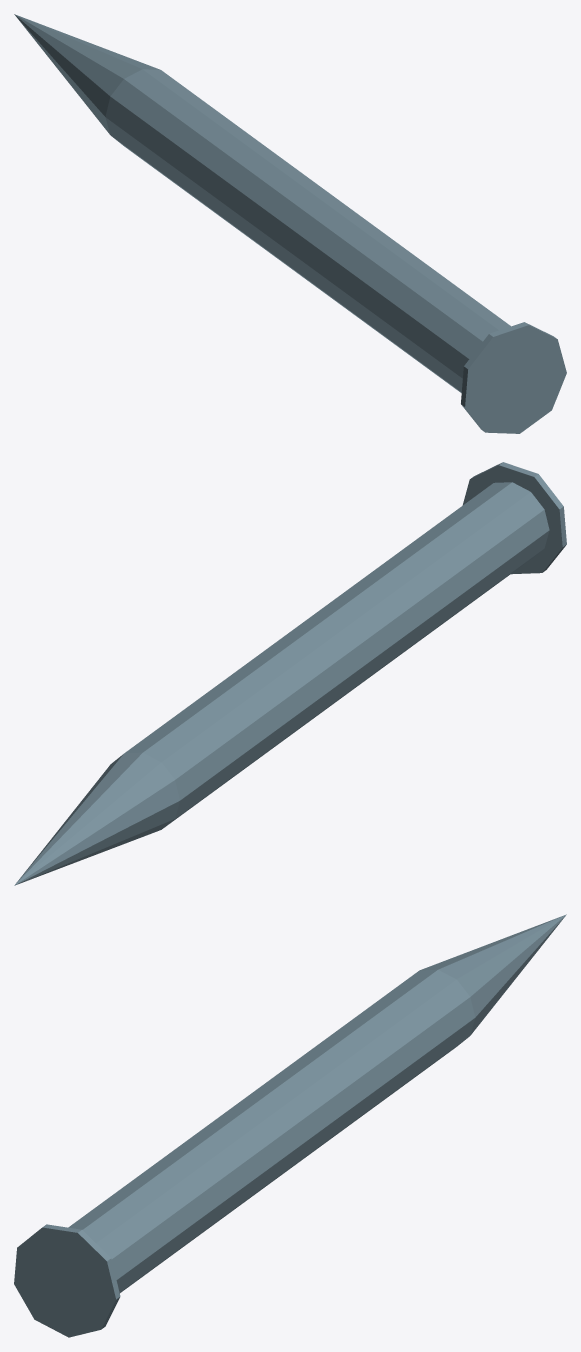
The picture shows the model from 3 angles, top to bottom: view 1: azimuth 30°, elevation 25°; view 2: azimuth 150°, elevation 25°; view 3: azimuth 330°, elevation 25°; orthographic projection.
Visible parts, largest first — view 1: mesh_832330870, group_1505152189; view 2: mesh_832330870, group_1505152189; view 3: mesh_832330870, group_1505152189.
Boxes of the visible parts, x1,y1,x2,y2 form: mesh_832330870: [14, 14, 510, 392]; group_1505152189: [461, 322, 566, 433]; mesh_832330870: [14, 482, 549, 885]; group_1505152189: [462, 462, 566, 574]; mesh_832330870: [68, 914, 566, 1293]; group_1505152189: [14, 1224, 120, 1337].
Bounding box in the file's own units: 6.87 × 6.87 × 58.5.
